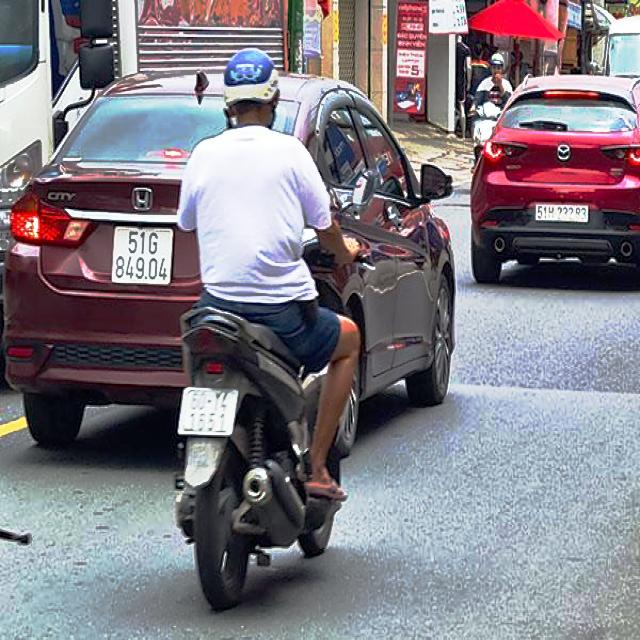license_plate: (115, 223, 176, 285), (178, 386, 239, 436), (536, 204, 590, 224)
